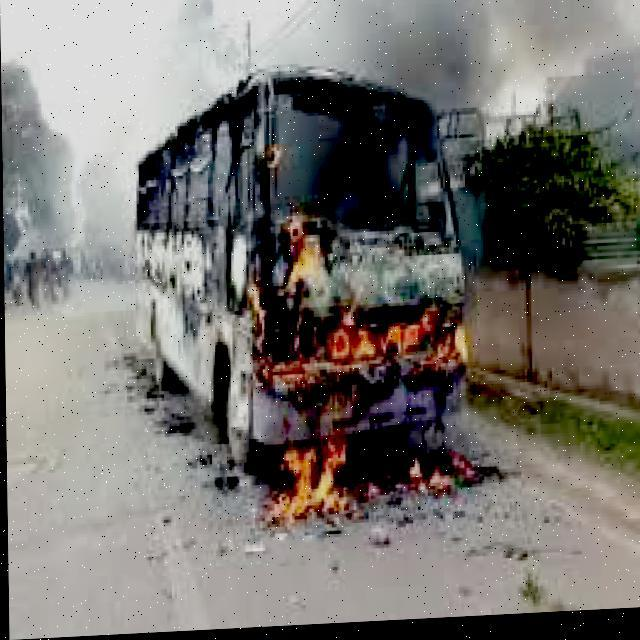Fire: (233, 241, 490, 482)
